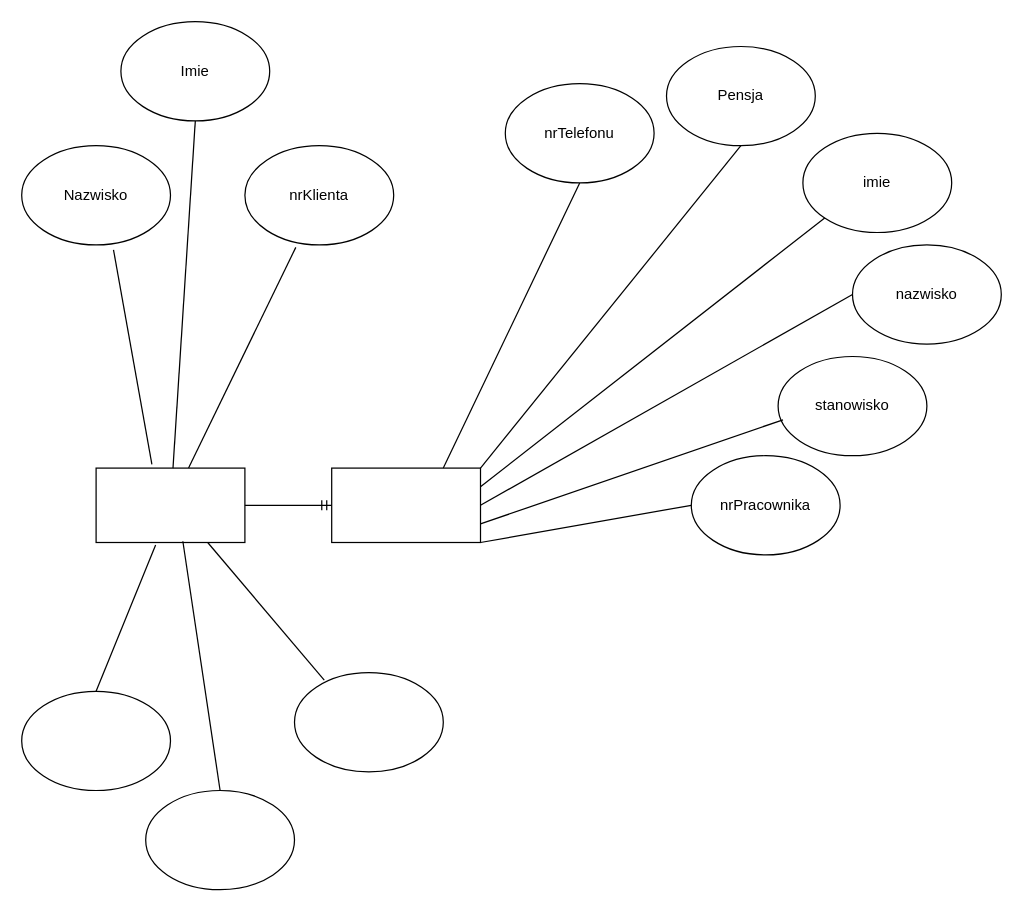
This 1023x911 diagram has some shape labels left out. Here are the shapes that lost their labels. From the top down, the centre of each, then its label:
At pixel 170 504: "Klient".
At pixel 405 504: "Pracownik".
